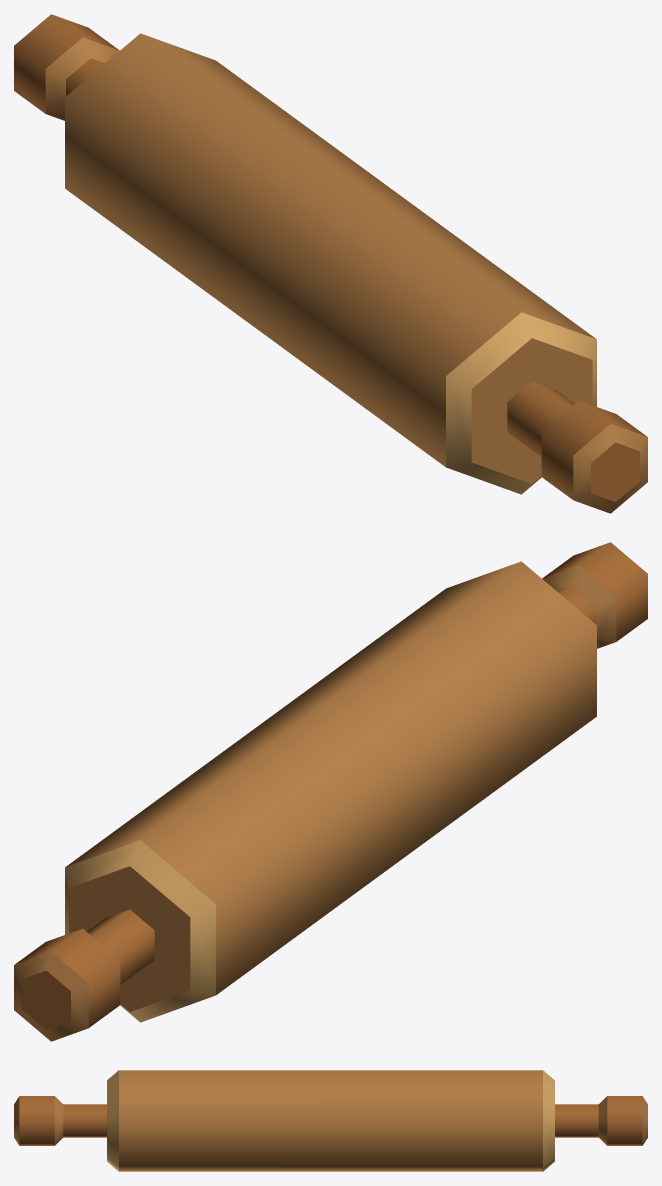
The model's file is FoodProp_2_B.glb.
3 views of the same model, one above another, from view 1: azimuth 30°, elevation 25°; view 2: azimuth 150°, elevation 25°; view 3: azimuth 270°, elevation 25° (orthographic). The views are drawn at different scales.
Visible parts, largest first — view 1: FoodProp_2_B; view 2: FoodProp_2_B; view 3: FoodProp_2_B.
Part boxes in pixels (x1,y1,x2,y2): FoodProp_2_B: (14,14,647,513); FoodProp_2_B: (14,542,647,1041); FoodProp_2_B: (14,1070,647,1171).
Size of the model in its own units: 0.0871 by 0.1005 by 0.5686.
1 material, 1 textured.
